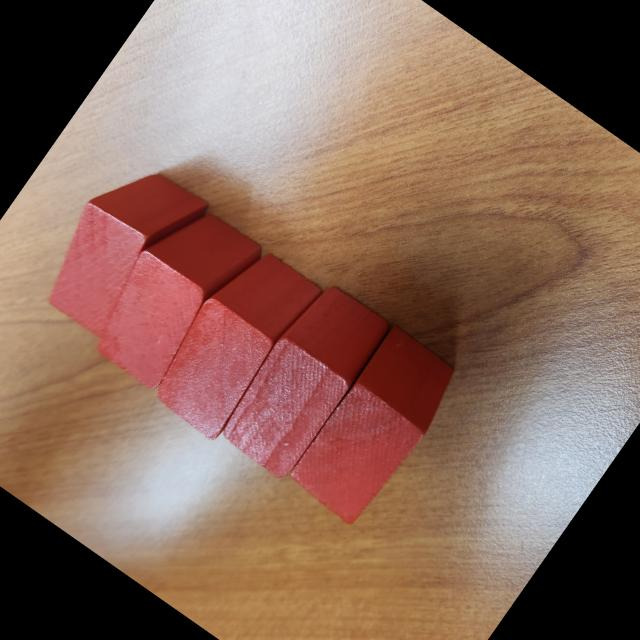red: (78, 191, 266, 399), (140, 236, 325, 445), (282, 322, 466, 532), (212, 274, 394, 483), (26, 145, 212, 349)
